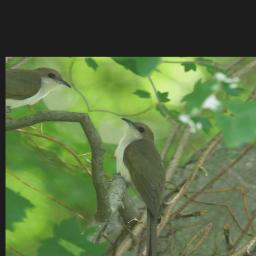Cuckoo: (45, 112, 234, 256)
